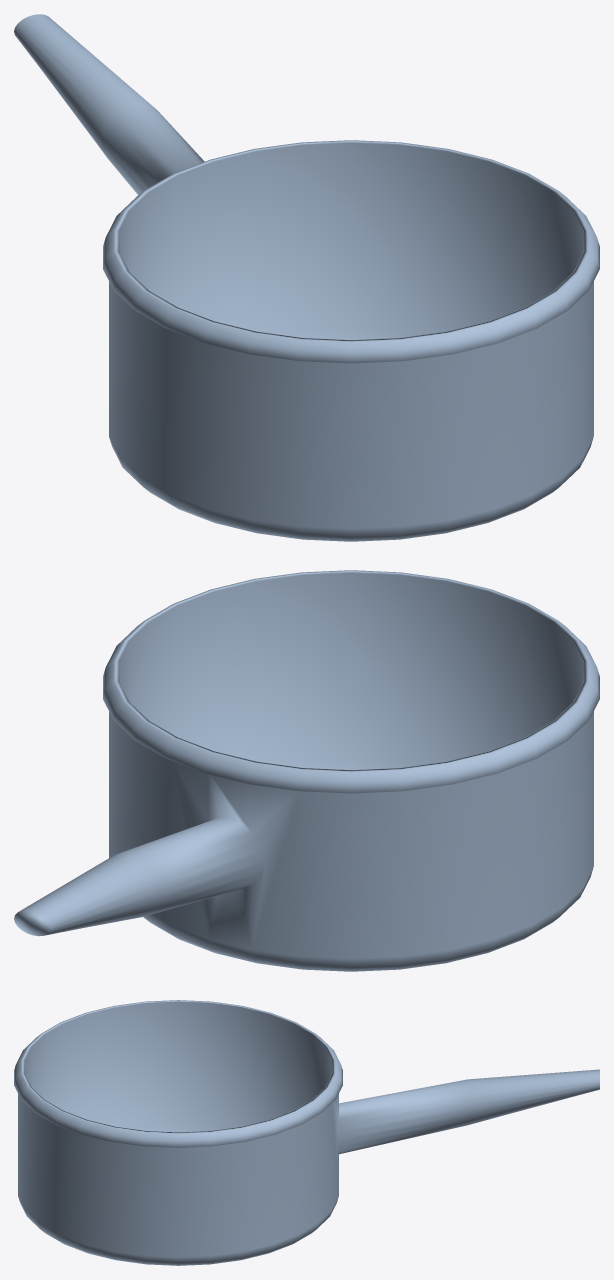
The model's file is Pot 1.fbx.
3 renders of one model, top to bottom at view 1: azimuth 30°, elevation 25°; view 2: azimuth 150°, elevation 25°; view 3: azimuth 270°, elevation 25°, orthographic. The views are drawn at different scales.
Parts seen in each view (by area): view 1: polySurface1; view 2: polySurface1; view 3: polySurface1.
Part boxes in pixels (x1=…): polySurface1: x1=14, y1=14, x2=599, y2=541; polySurface1: x1=14, y1=570, x2=599, y2=971; polySurface1: x1=14, y1=1000, x2=599, y2=1265.
Bounding box in the file's own units: 4.5 × 2.04 × 7.97.
